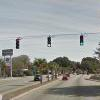Traffic light: (10, 30, 89, 55)
